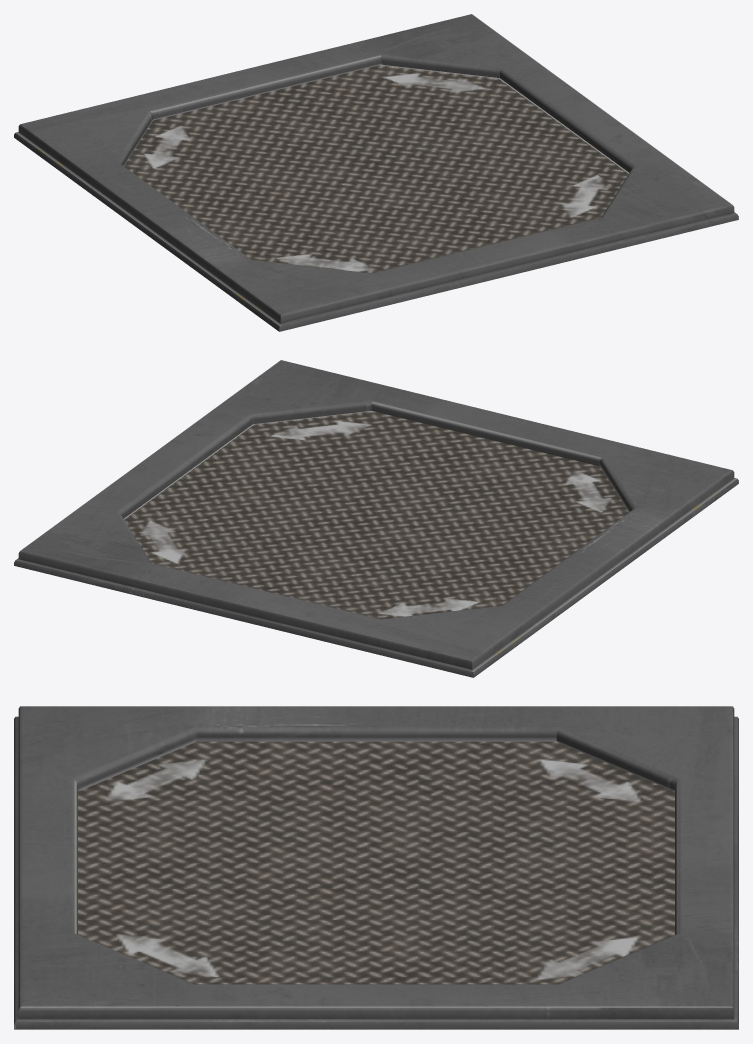
File: SM_Floor_Mats_Props_LP_pPlane11.fbx
3 renders of one model, top to bottom at view 1: azimuth 30°, elevation 25°; view 2: azimuth 150°, elevation 25°; view 3: azimuth 270°, elevation 25°, orthographic. The views are drawn at different scales.
Visible parts, largest first — view 1: SM_Floor_Mats_Props_LP_pPlane11_LOD0; view 2: SM_Floor_Mats_Props_LP_pPlane11_LOD0; view 3: SM_Floor_Mats_Props_LP_pPlane11_LOD0.
Boxes of the visible parts, x1,y1,x2,y2 form: SM_Floor_Mats_Props_LP_pPlane11_LOD0: [14, 14, 738, 331]; SM_Floor_Mats_Props_LP_pPlane11_LOD0: [14, 360, 738, 677]; SM_Floor_Mats_Props_LP_pPlane11_LOD0: [14, 706, 738, 1029].
Bounding box in the file's own units: 200 × 200 × 6.24.
1 material, 1 textured.
